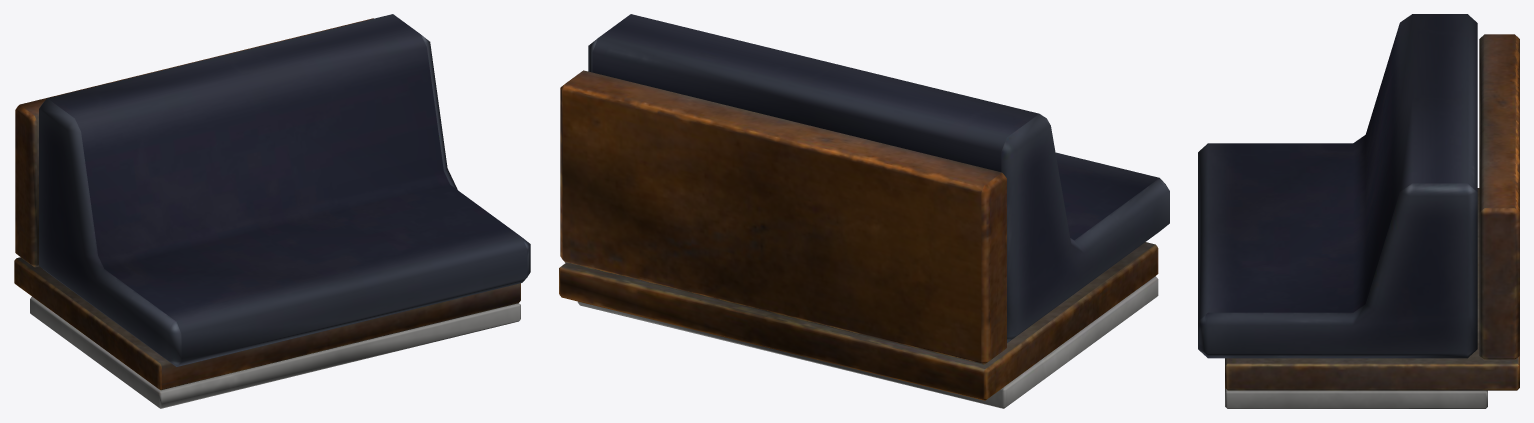
The model's file is SM_Sofa001.glb.
3 views of the same model, side by side, from view 1: azimuth 30°, elevation 25°; view 2: azimuth 150°, elevation 25°; view 3: azimuth 270°, elevation 25° (orthographic). The views are drawn at different scales.
Parts seen in each view (by area): view 1: SM_Sofa001; view 2: SM_Sofa001; view 3: SM_Sofa001.
Part boxes in pixels (<box>): SM_Sofa001: <box>14,14,530,408</box>; SM_Sofa001: <box>559,14,1169,408</box>; SM_Sofa001: <box>1198,14,1519,408</box>.
Size of the model in its own units: 2 by 1.17 by 1.53.
Materials: 1 (1 with a texture image).
